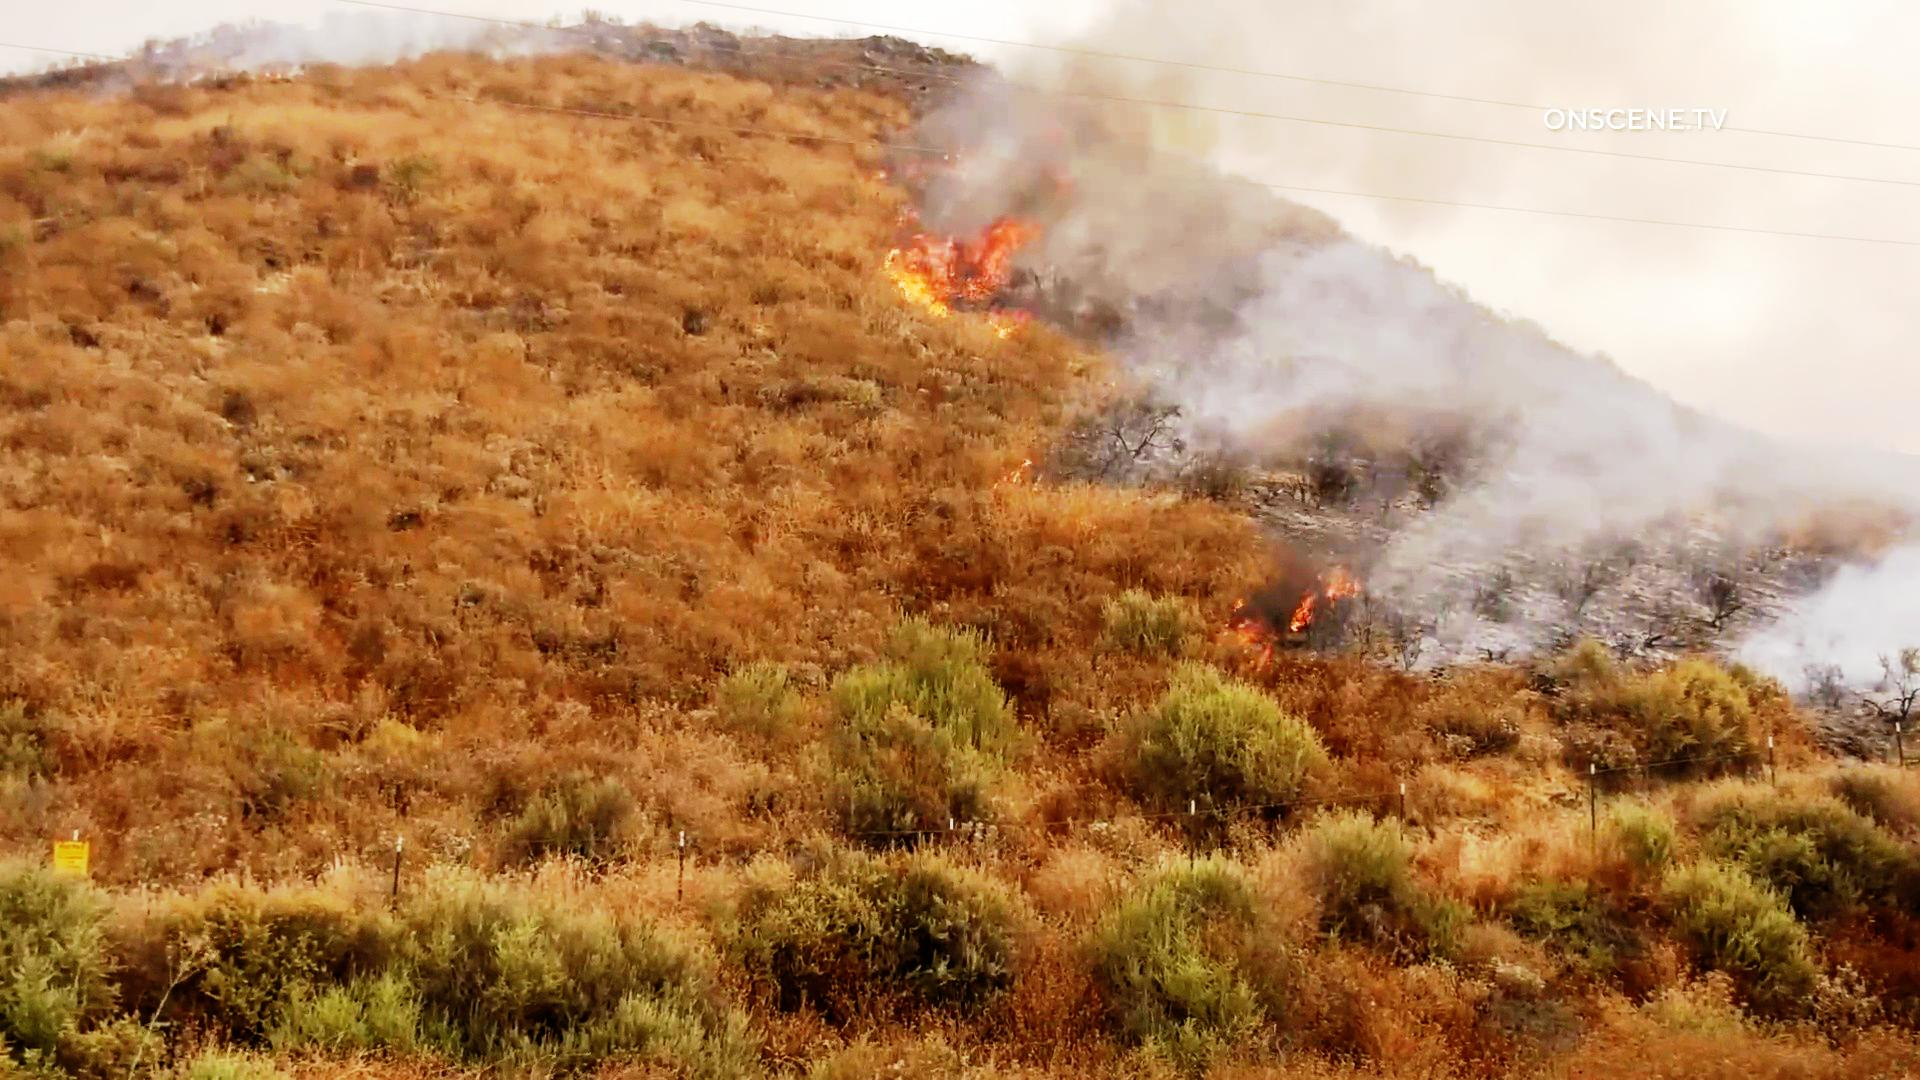fire: (887, 208, 1036, 351)
